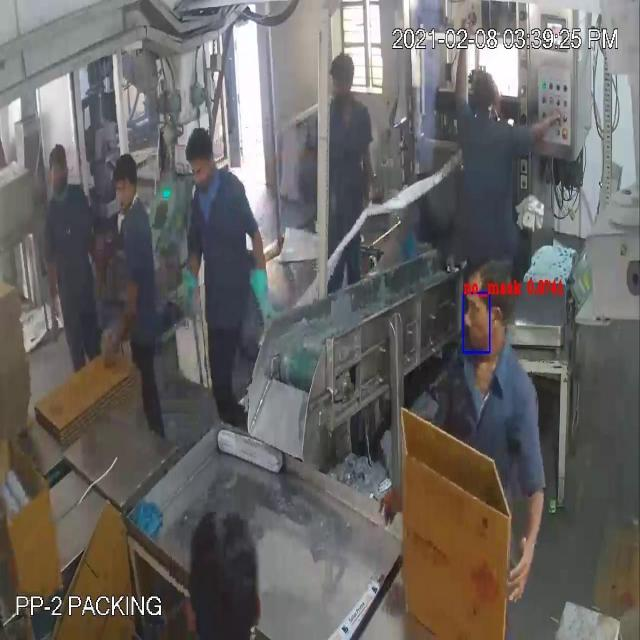No_Gloves: (26, 82, 524, 536)
